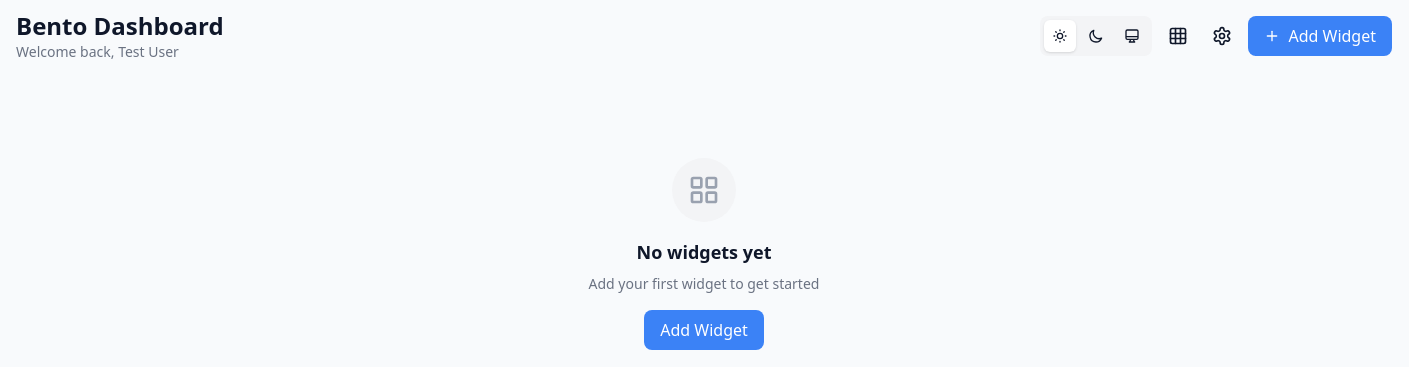
Test: Dashboard › toggles layout mode
This screenshot has width=1409, height=367.
Click the button named "Switch to flex layout": coordinates (1178, 36) [1160, 18, 1196, 54]
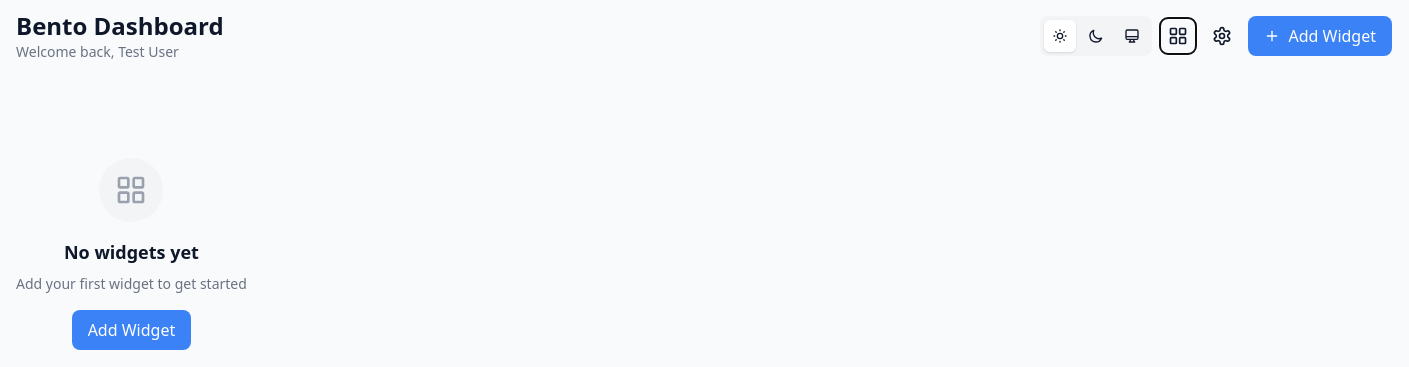
expect the button named "Switch to grid layout" is shown: met, box [1160, 18, 1196, 54]
